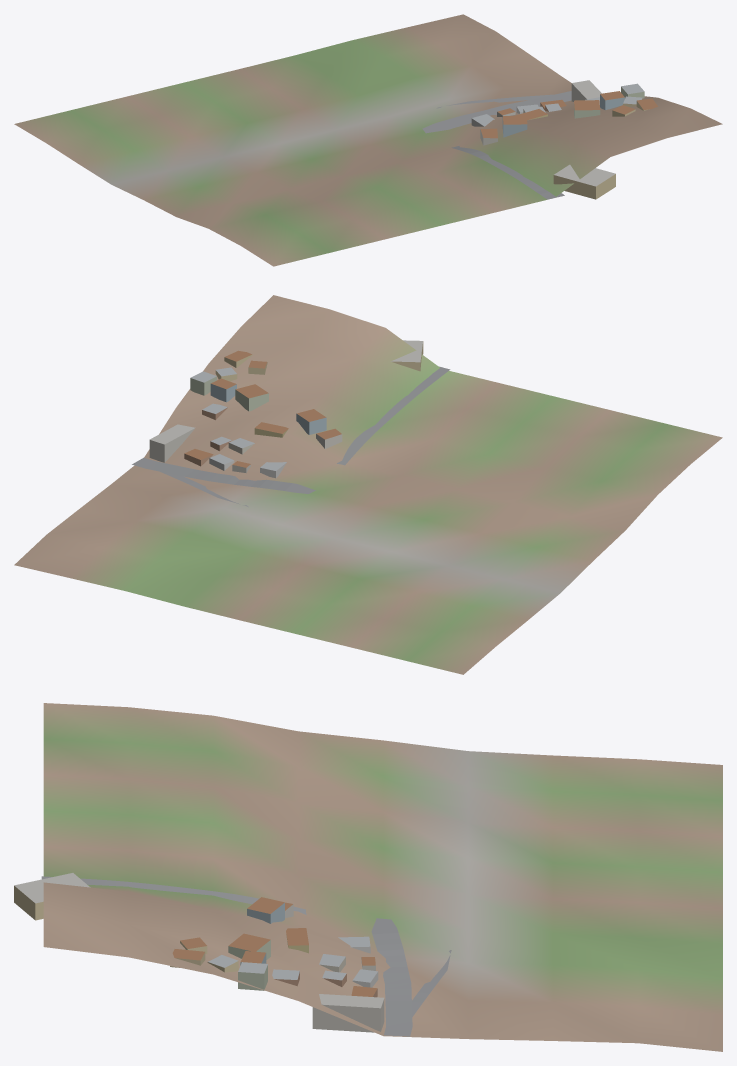
3 views of the same model, one above another, from view 1: azimuth 30°, elevation 25°; view 2: azimuth 150°, elevation 25°; view 3: azimuth 270°, elevation 25° (orthographic). The views are drawn at different scales.
Visible parts, largest first — view 1: Lo; view 2: Lo; view 3: Lo.
Part boxes in pixels (<box>): Lo: <box>14,14,722,266</box>; Lo: <box>14,295,722,674</box>; Lo: <box>14,703,722,1051</box>.
Size of the model in its own units: 257 by 43.66 by 267.
